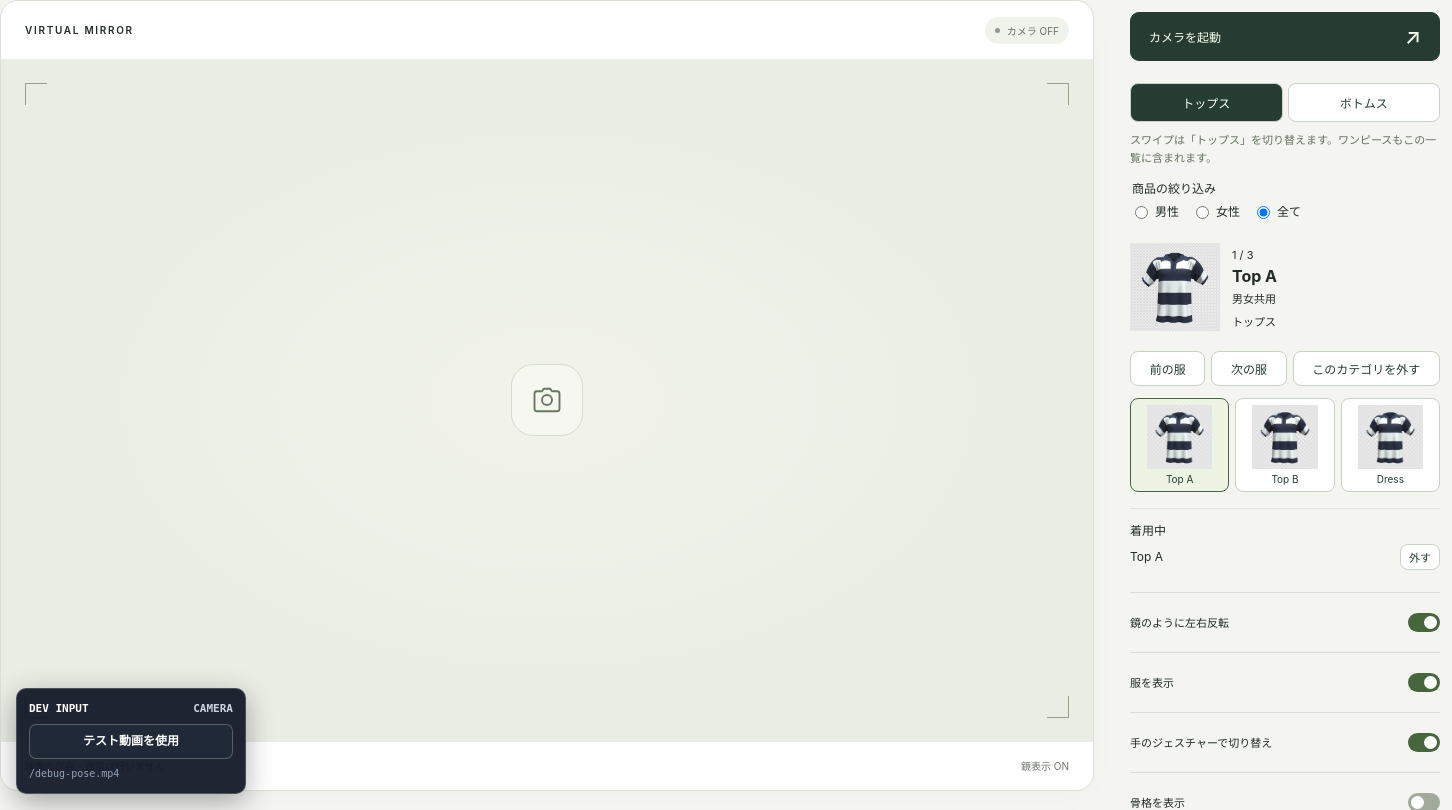
CameraView › browses only focused candidates without opening the camera
This screenshot has width=1452, height=810.
Check: the text "1 / 3" is shown, box 1232,248 -> 1253,262
Click the button "次の服" at (1249, 368), box 1211,351 -> 1287,386
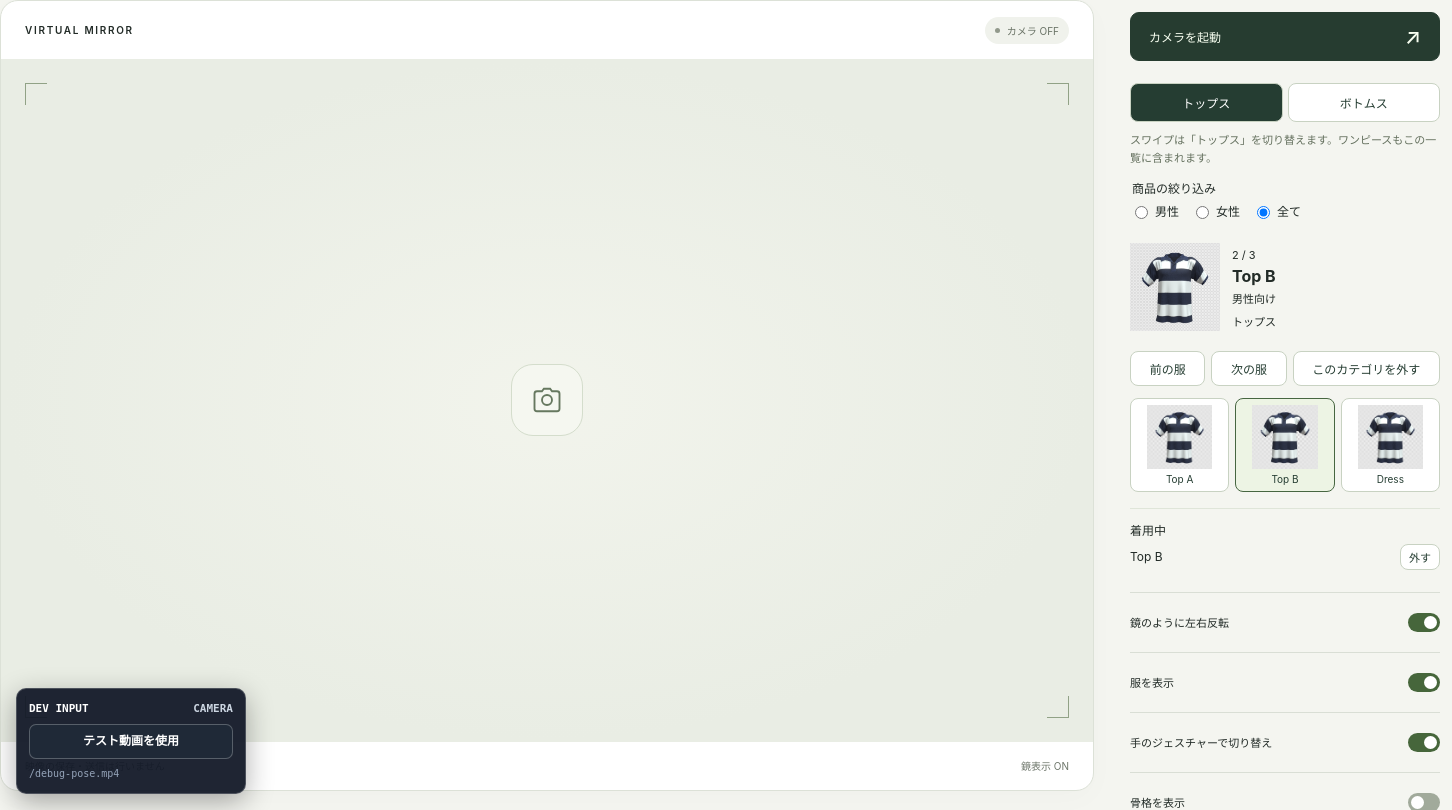
Check: the text "2 / 3" is shown, box 1232,248 -> 1256,262
